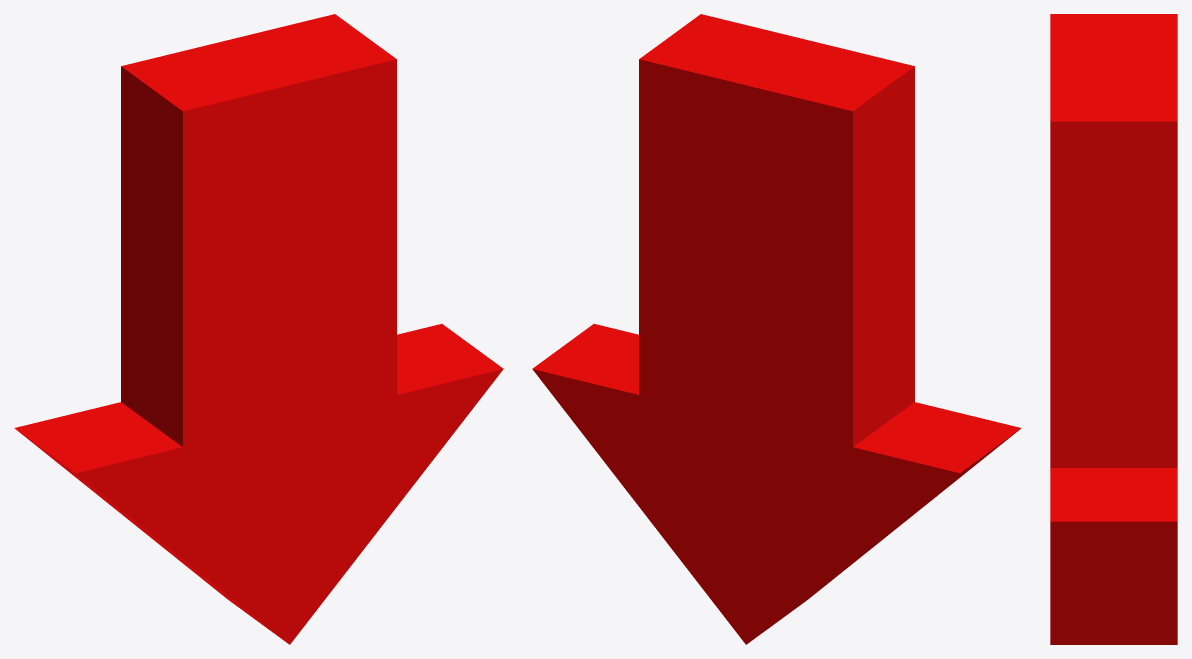
File: show.gltf
3 renders of one model, left to right at view 1: azimuth 30°, elevation 25°; view 2: azimuth 150°, elevation 25°; view 3: azimuth 270°, elevation 25°, orthographic. The views are drawn at different scales.
Visible parts, largest first — view 1: show; view 2: show; view 3: show.
Part boxes in pixels (box(x1,y1,x2,y2)): show: box(14, 14, 503, 644); show: box(532, 14, 1021, 644); show: box(1050, 14, 1177, 644).
Bounding box in the file's own units: 4 × 5 × 1.
